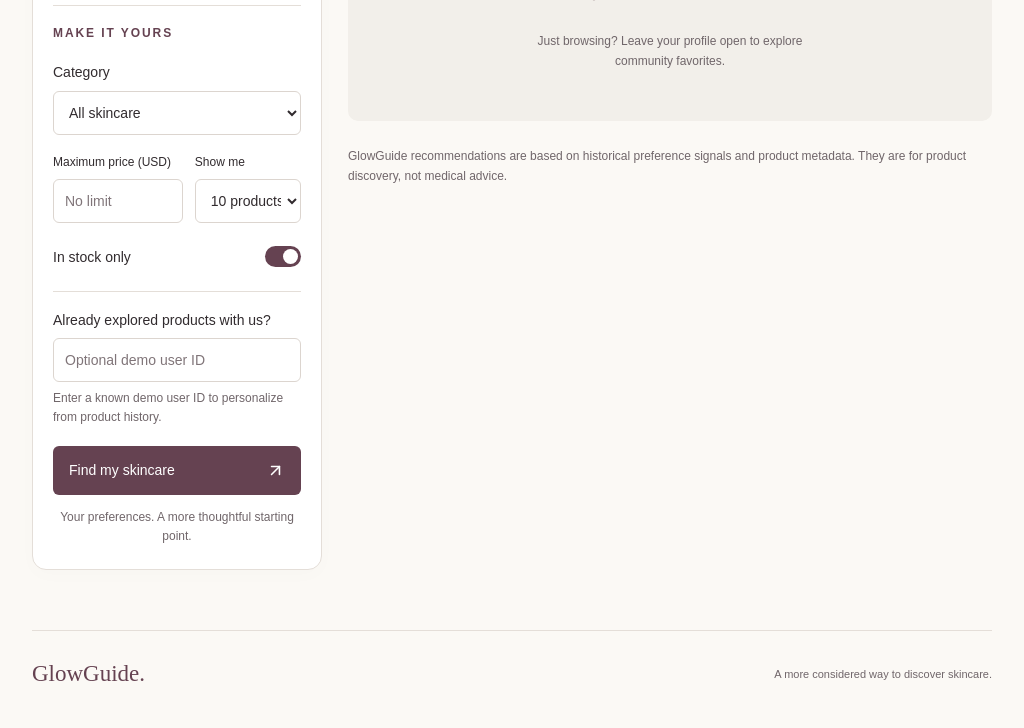
Test: recommendation experience › fetches product details only on explicit action and closes accessibly
This screenshot has width=1024, height=728.
(page scrolled)
Click the button "Find my skincare" at (177, 470), box [53,446,301,495]
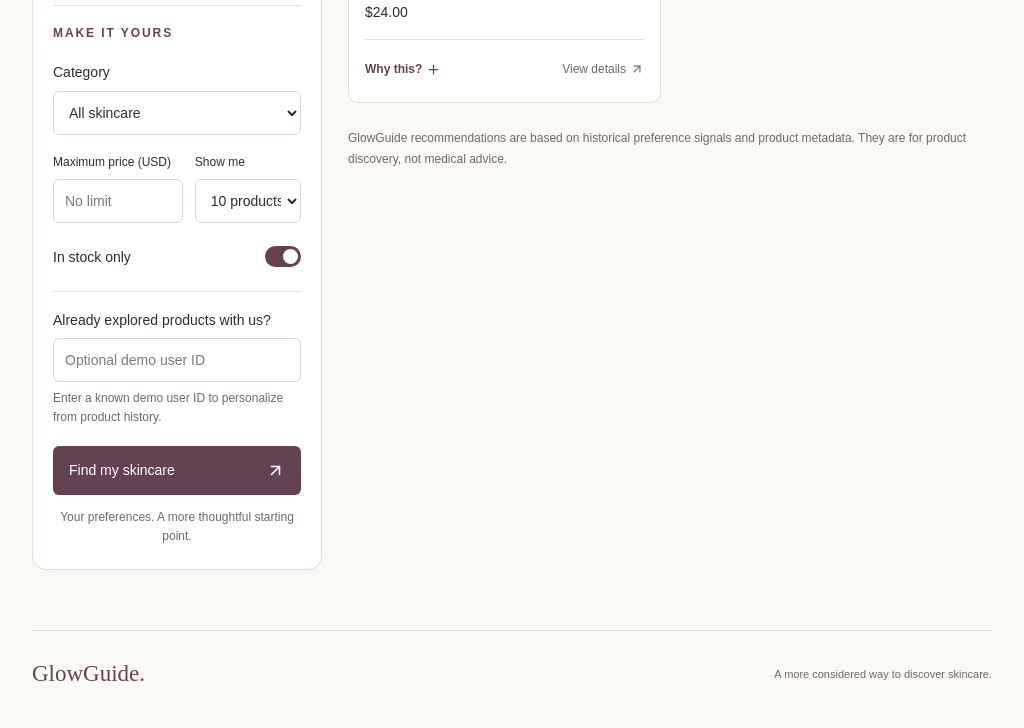
Click the button with aria-label "View details for" at (603, 69), box [562,49,644,89]
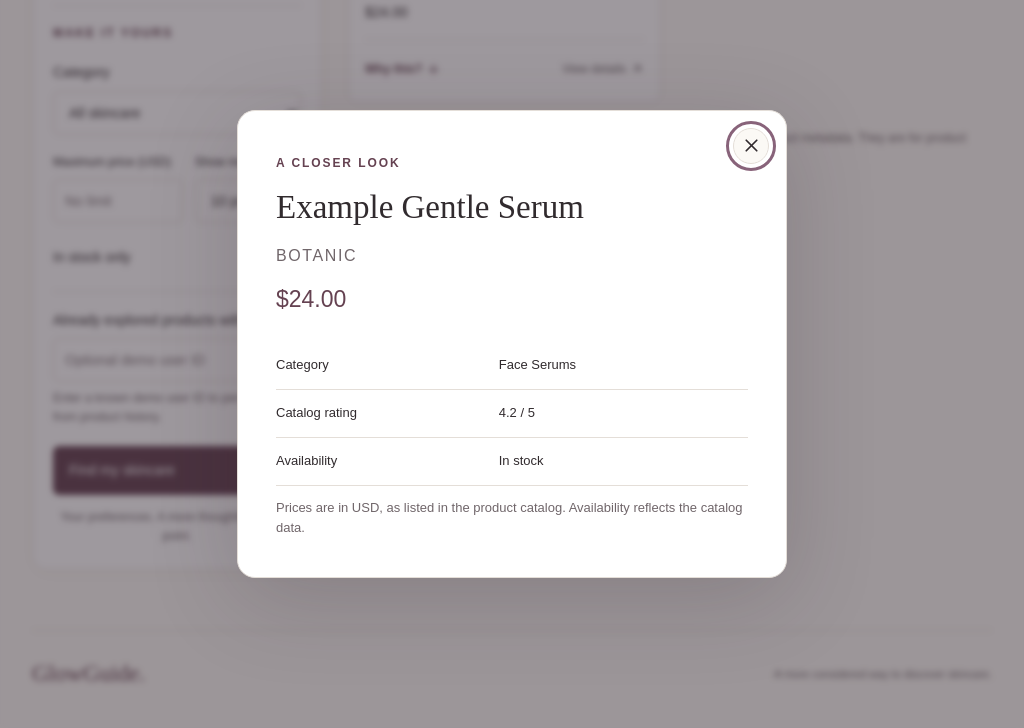
expect the text "4.2 / 5" is shown: met, box [499,405,535,420]
Click the button named "Close dialog" at (751, 146), box [733,128,769,164]
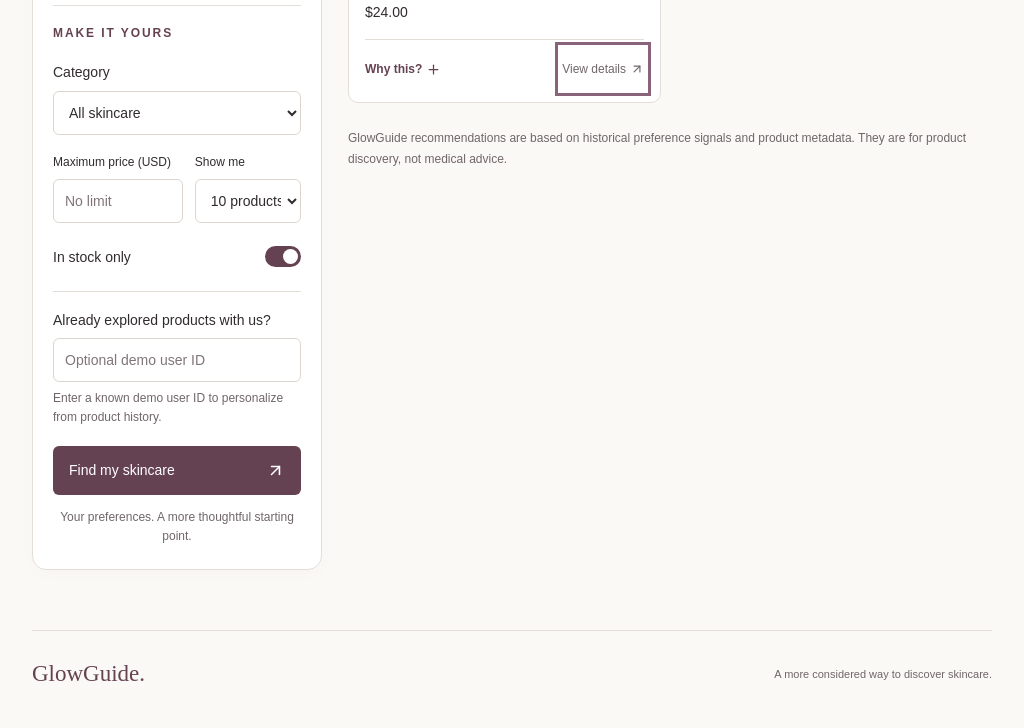
expect the dialog is gone: met
